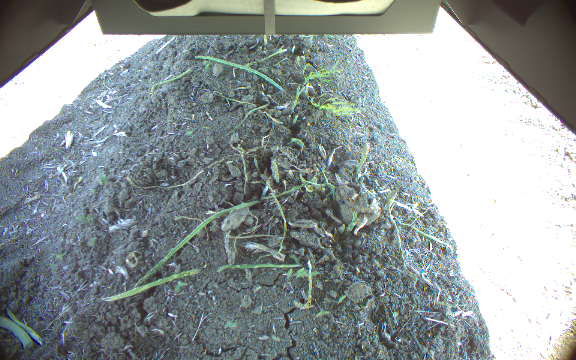aspa: (306, 259, 316, 309), (354, 141, 371, 170), (385, 190, 398, 208)
